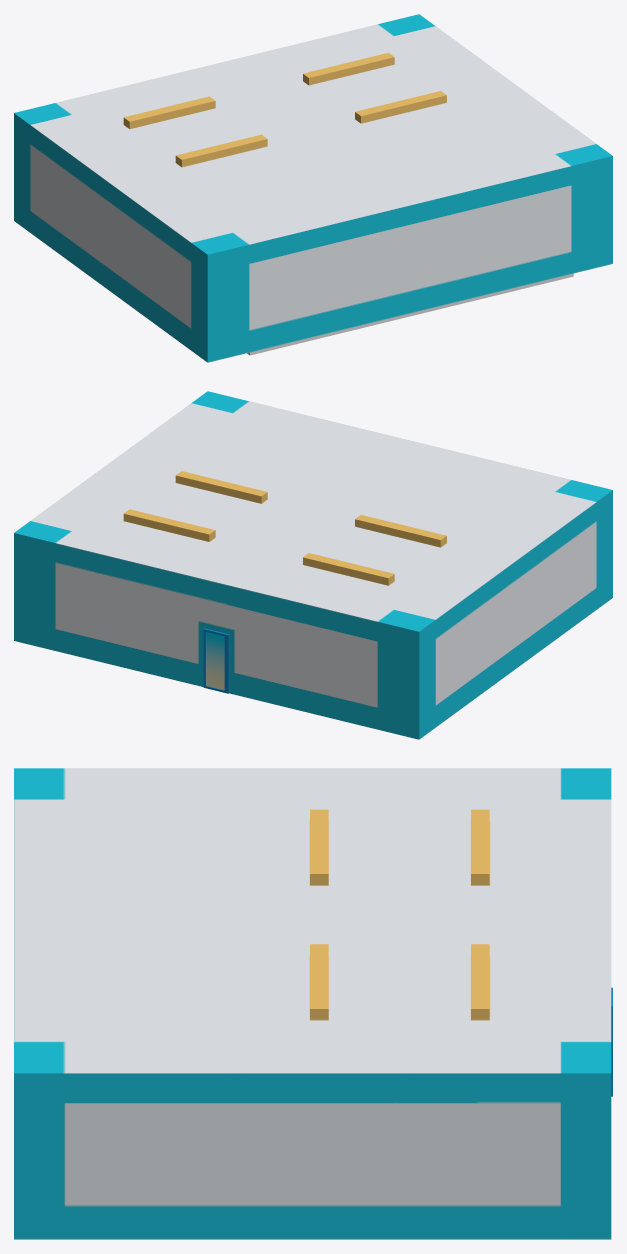
Rendered from Room.fbx.
3 renders of one model, top to bottom at view 1: azimuth 30°, elevation 25°; view 2: azimuth 150°, elevation 25°; view 3: azimuth 270°, elevation 25°, orthographic. The views are drawn at different scales.
Parts seen in each view (by area): view 1: RoomBounds_Model, Counter; view 2: RoomBounds_Model, Door_Model; view 3: RoomBounds_Model.
Part boxes in pixels (x1,y1,x2,y2): RoomBounds_Model: (14,14,612,362); Counter: (247,273,573,355); RoomBounds_Model: (14,391,612,739); Door_Model: (203,628,229,693); RoomBounds_Model: (14,768,611,1239).
Size of the model in its own units: 2615 by 732 by 2171.
Materials: 18 (18 with a texture image).
